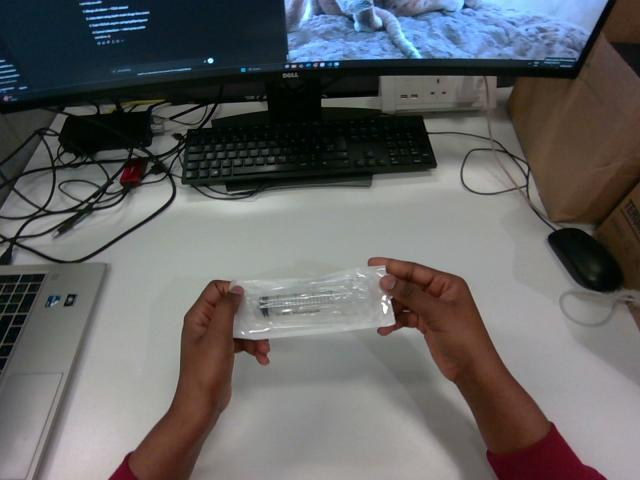syringe: (231, 267, 394, 339)
